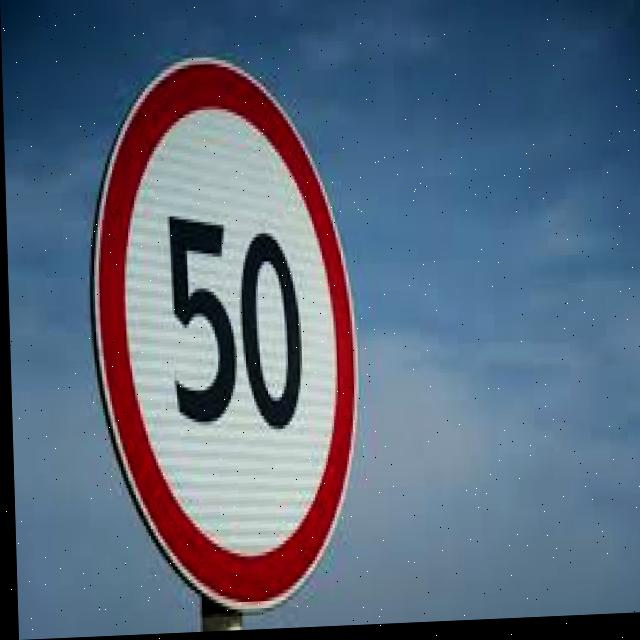Speed limit 50: (79, 48, 365, 621)
